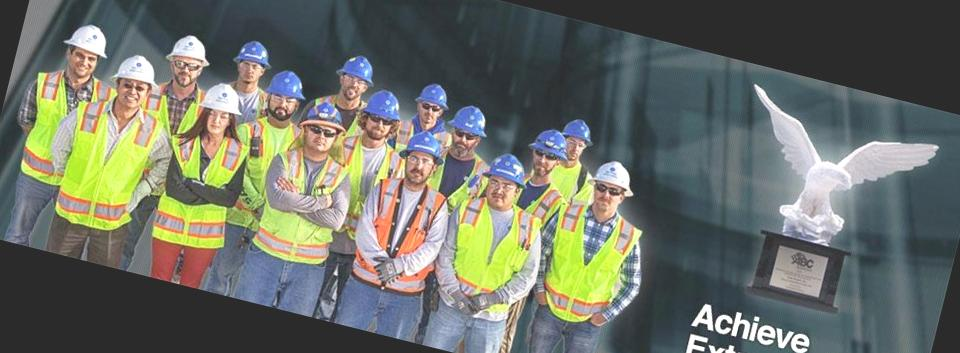helmet: (193, 74, 256, 121), (478, 144, 535, 194), (60, 16, 119, 60), (588, 152, 640, 194), (164, 29, 215, 71), (298, 96, 351, 136), (262, 64, 314, 104), (400, 122, 452, 161), (110, 49, 164, 86), (360, 85, 406, 123), (450, 98, 492, 138), (336, 47, 378, 85), (530, 122, 570, 160), (230, 36, 273, 68), (415, 79, 455, 110), (564, 118, 591, 142)
person: (231, 80, 380, 320), (520, 144, 669, 353), (0, 8, 123, 255), (330, 122, 460, 341), (47, 41, 172, 268), (421, 147, 552, 353), (140, 71, 260, 291)
